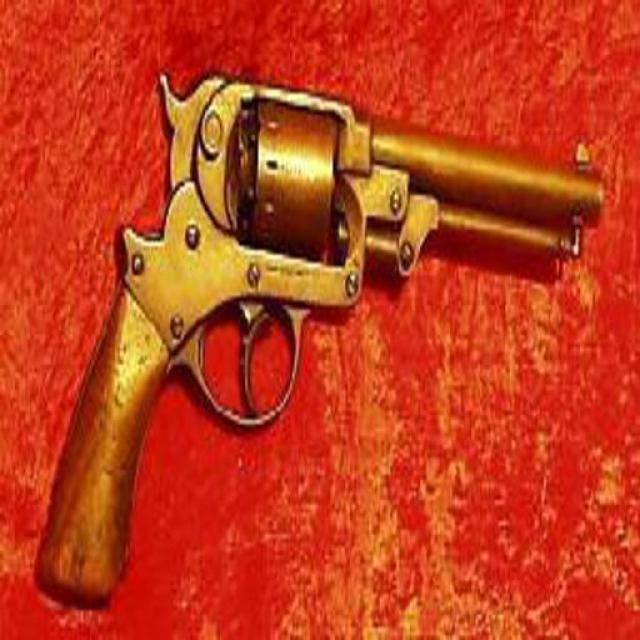pistol: (31, 67, 607, 610)
